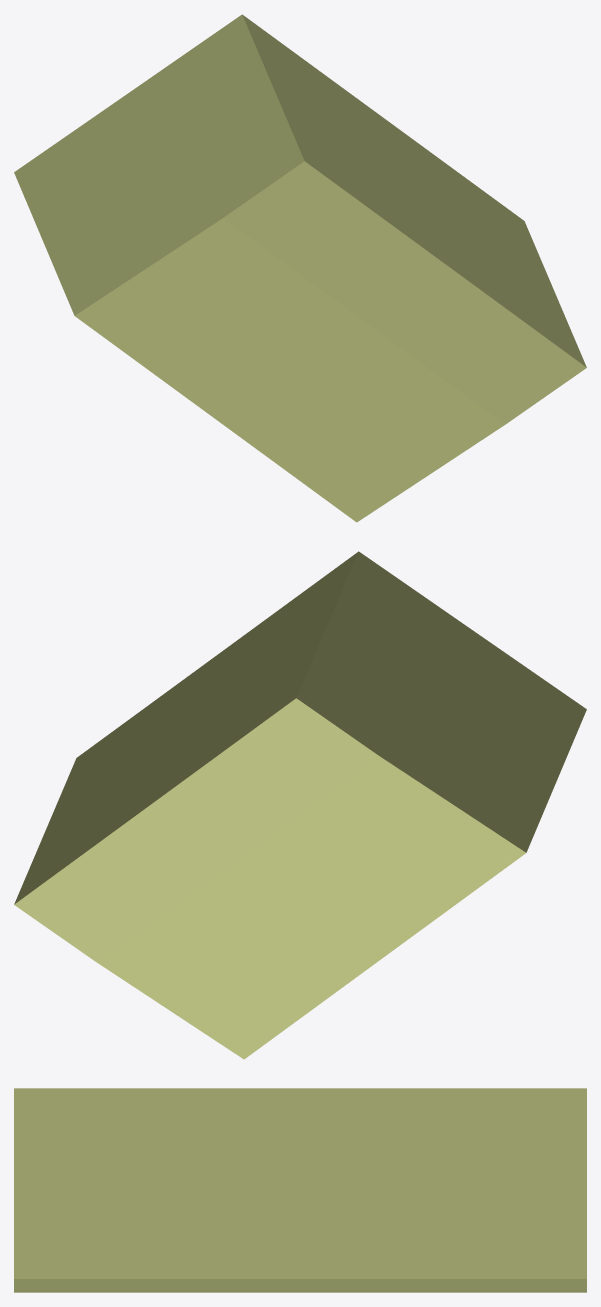
The picture shows the model from 3 angles, top to bottom: view 1: azimuth 30°, elevation 25°; view 2: azimuth 150°, elevation 25°; view 3: azimuth 270°, elevation 25°; orthographic projection.
Parts seen in each view (by area): view 1: 0_1_3_2_1_2_1_0_2_0_2; view 2: 0_1_3_2_1_2_1_0_2_0_2; view 3: 0_1_3_2_1_2_1_0_2_0_2.
Boxes of the visible parts, x1=… form: 0_1_3_2_1_2_1_0_2_0_2: x1=14, y1=14, x2=586, y2=522; 0_1_3_2_1_2_1_0_2_0_2: x1=14, y1=551, x2=586, y2=1059; 0_1_3_2_1_2_1_0_2_0_2: x1=14, y1=1088, x2=586, y2=1292.
Bounding box in the file's own units: 5.35 × 4.58 × 9.
